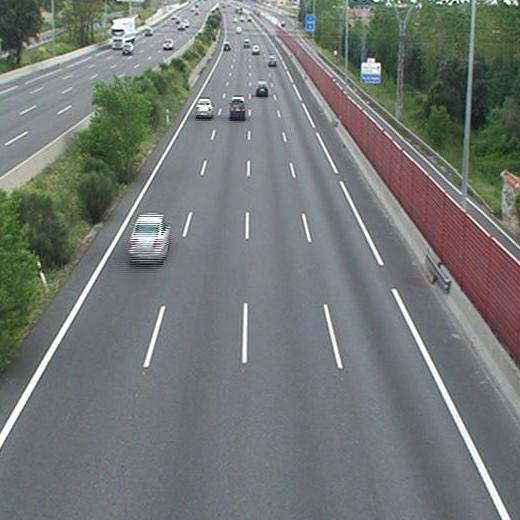car: (128, 212, 169, 261), (229, 96, 246, 116), (195, 98, 213, 115), (255, 81, 268, 96), (251, 44, 261, 56), (267, 56, 275, 66), (222, 42, 230, 50), (242, 40, 250, 47)
